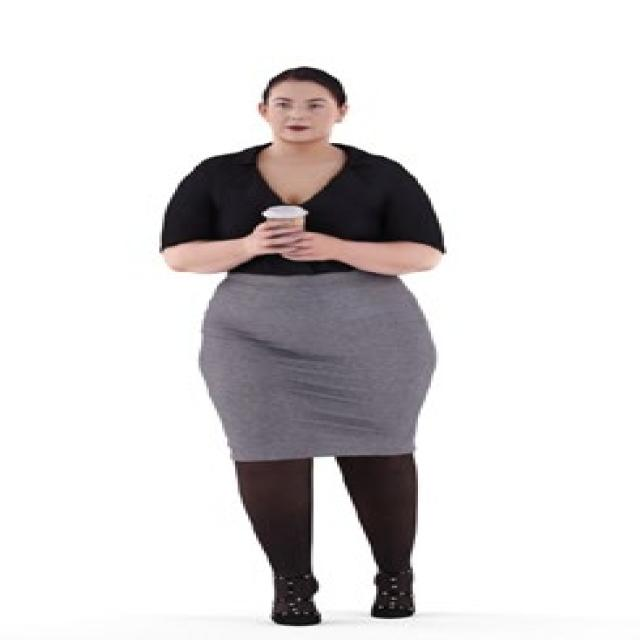standing: (151, 65, 459, 625)
